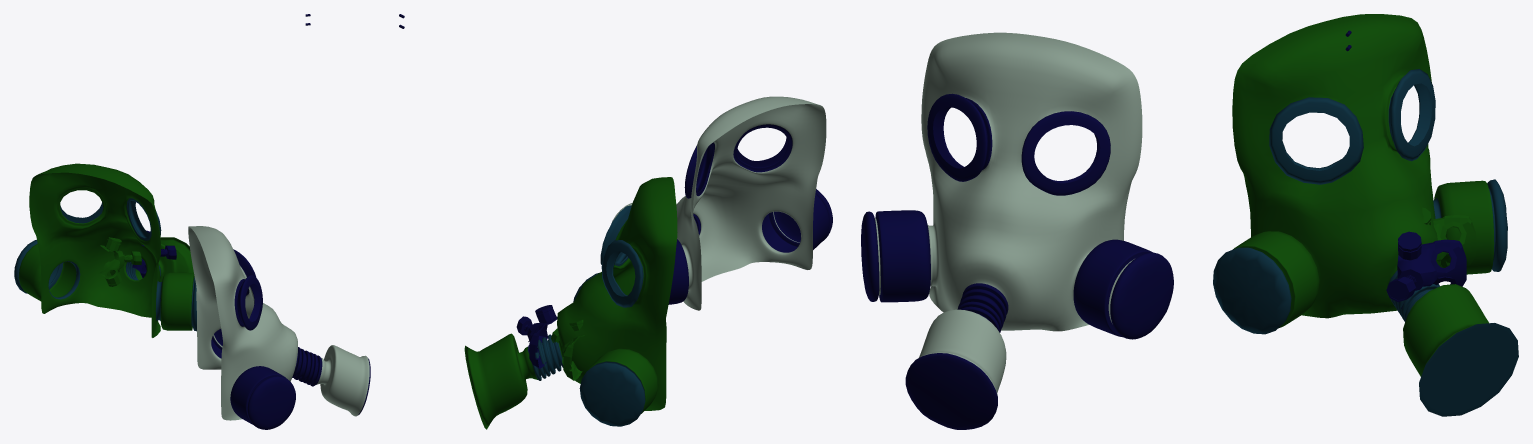
Rendered from GAS MASK.glb.
The picture shows the model from 3 angles, left to right: view 1: azimuth 30°, elevation 25°; view 2: azimuth 150°, elevation 25°; view 3: azimuth 270°, elevation 25°; orthographic projection. The views are drawn at different scales.
Visible parts, largest first — view 1: polySurface1.001, polySurface1, pCube1.001, pCube1; view 2: polySurface1.001, polySurface1, pCube1, pCube1.001; view 3: polySurface1, polySurface1.001, pCube1, pCube1.001.
Part boxes in pixels (bbox=[...]): polySurface1.001: bbox=[14, 163, 196, 337]; polySurface1: bbox=[188, 226, 370, 429]; pCube1.001: bbox=[98, 237, 141, 286]; pCube1: bbox=[132, 230, 176, 278]; polySurface1.001: bbox=[464, 177, 677, 429]; polySurface1: bbox=[612, 96, 832, 310]; pCube1: bbox=[516, 305, 557, 368]; pCube1.001: bbox=[551, 319, 584, 380]; polySurface1: bbox=[861, 32, 1173, 429]; polySurface1.001: bbox=[1213, 14, 1518, 416]; pCube1: bbox=[1386, 231, 1466, 308]; pCube1.001: bbox=[1422, 207, 1476, 267].
Bounding box in the file's own units: 7.52 × 8.25 × 10.55.
